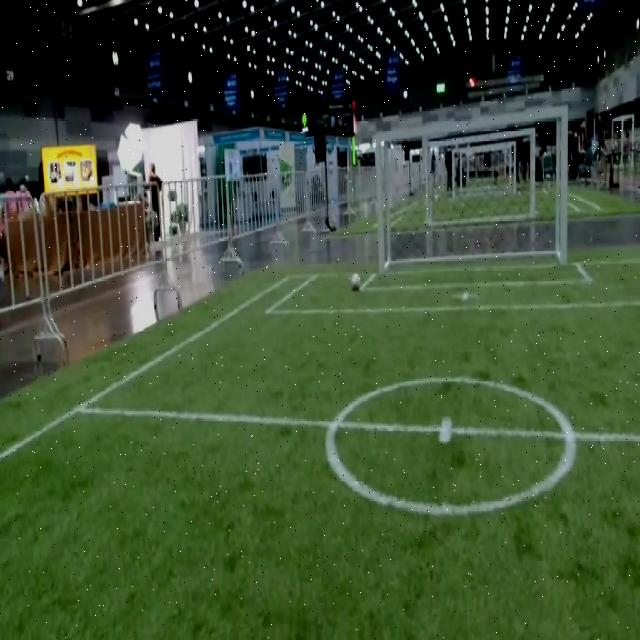ball: (351, 273, 360, 291)
goalpost: (377, 248, 387, 278), (558, 239, 568, 268)
